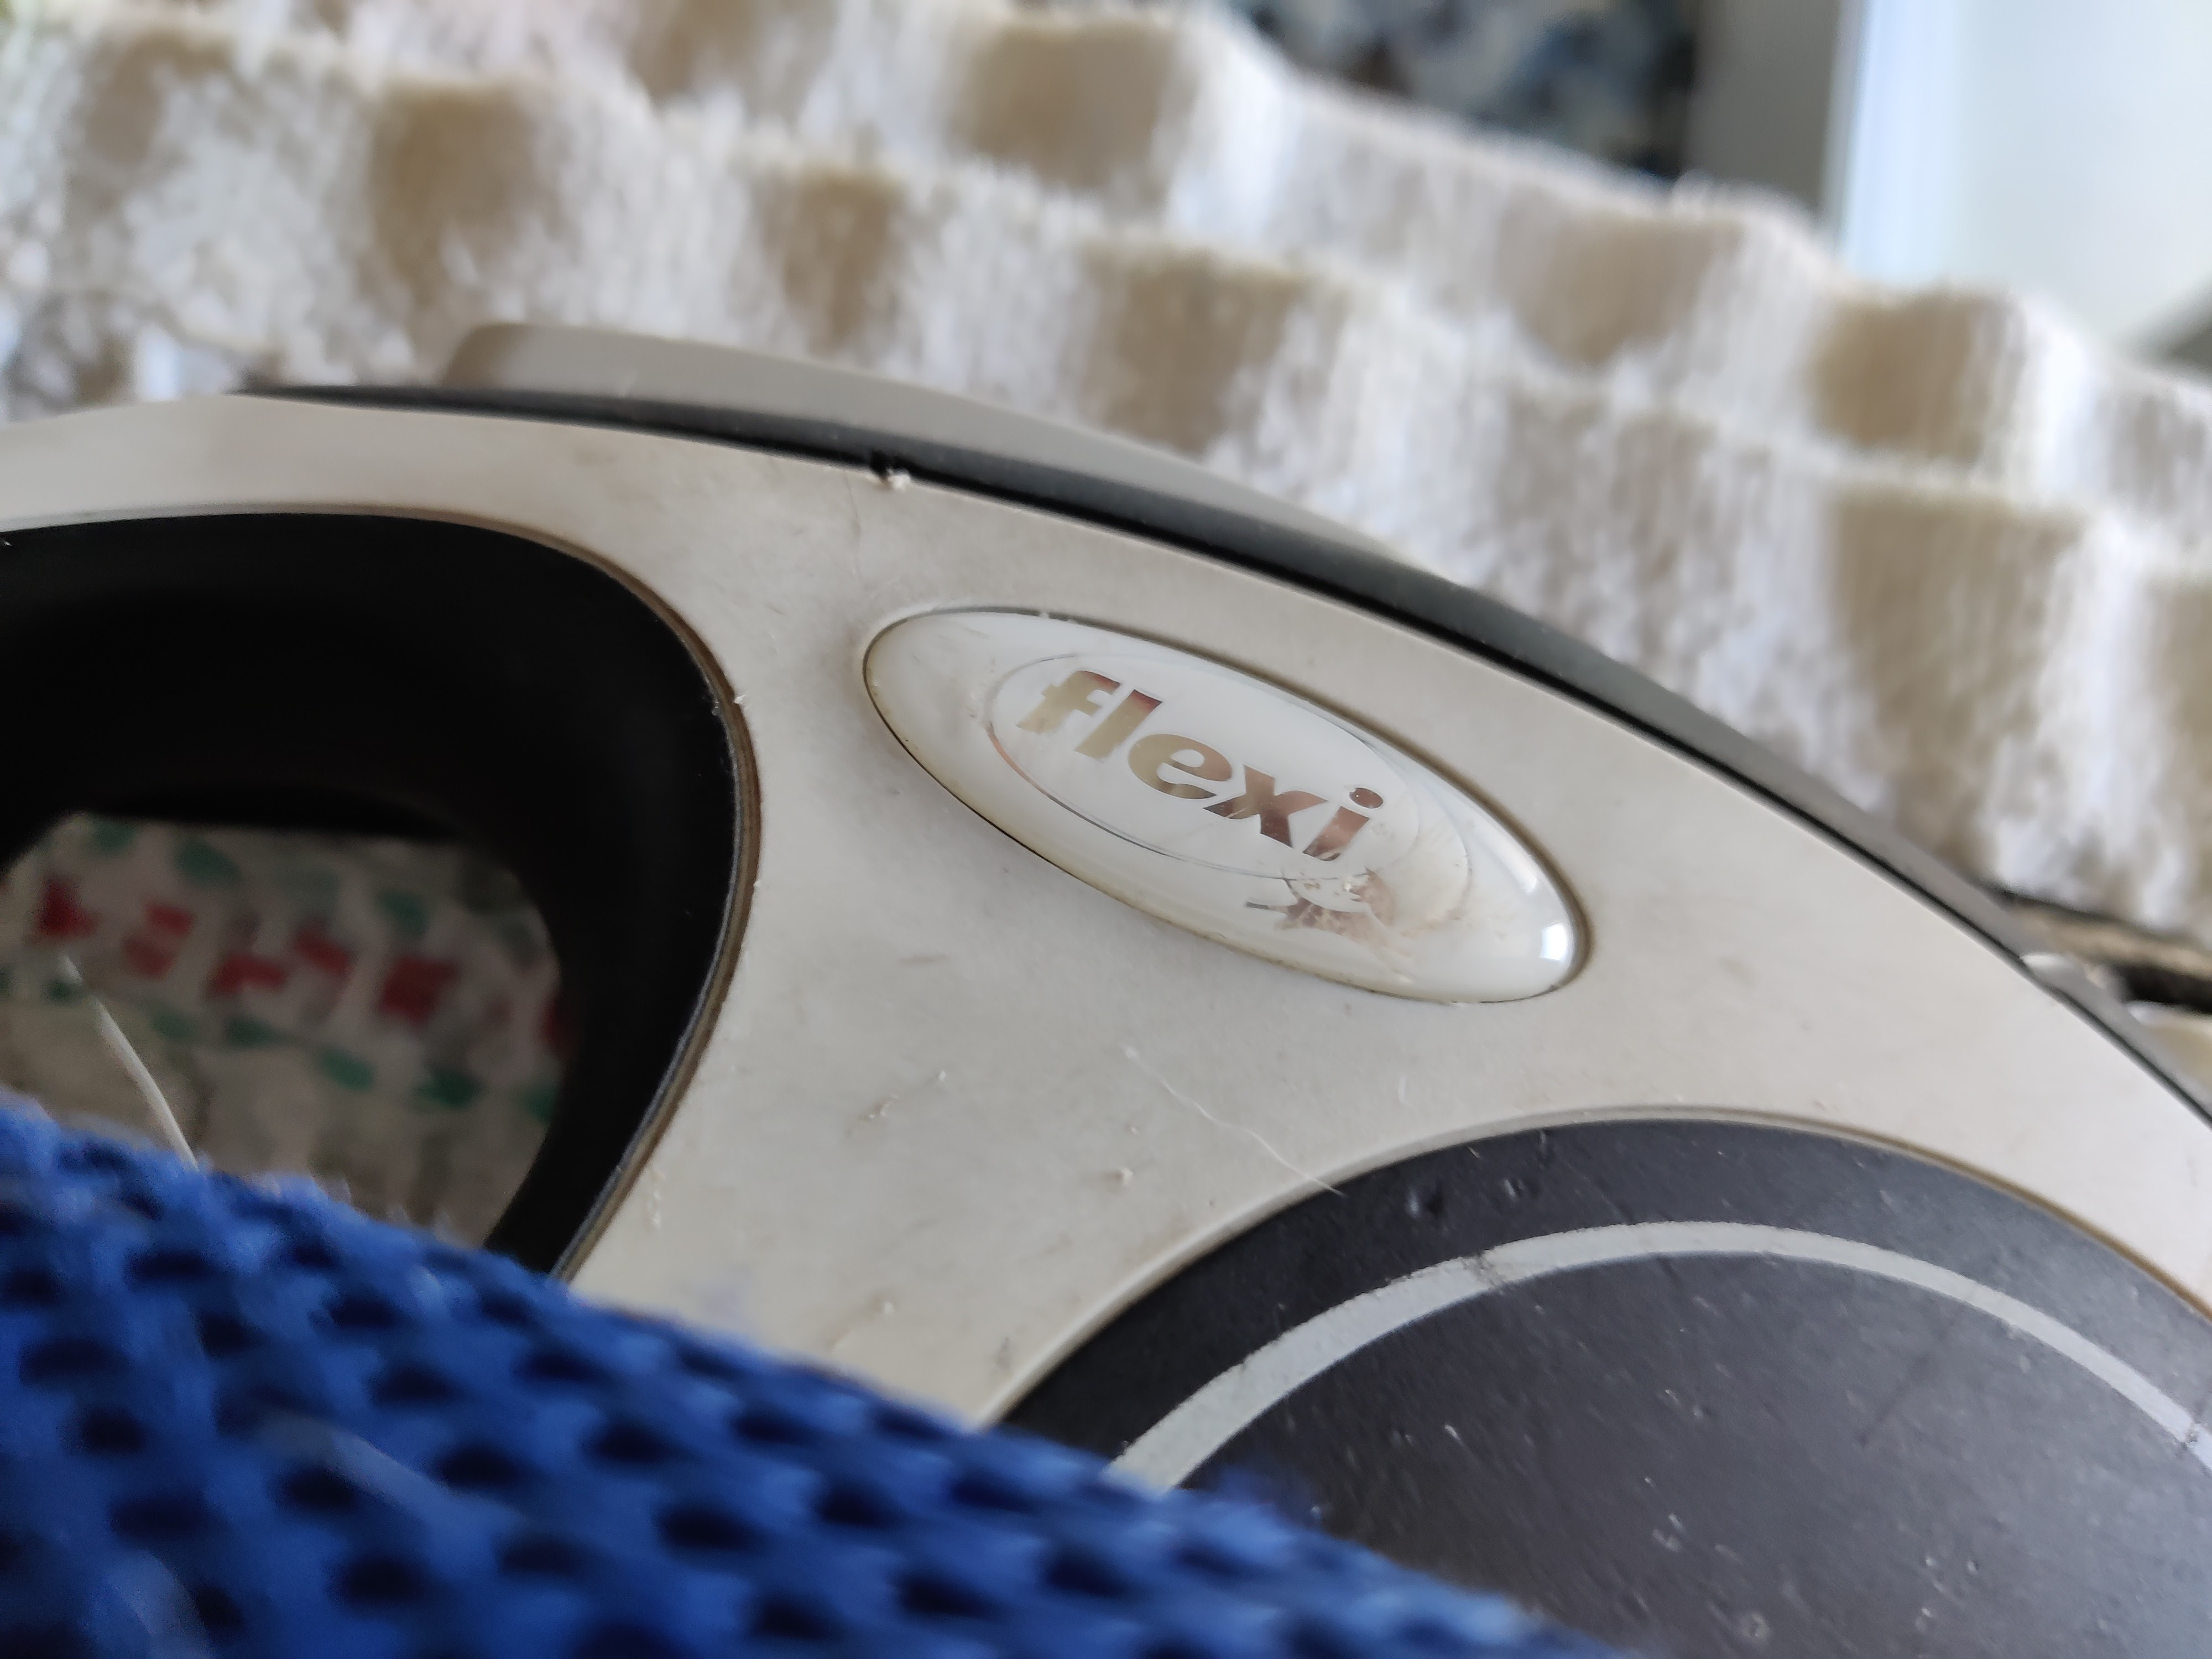Dog: (1242, 864, 1418, 981)
